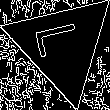L_E: (34, 24, 90, 66)
